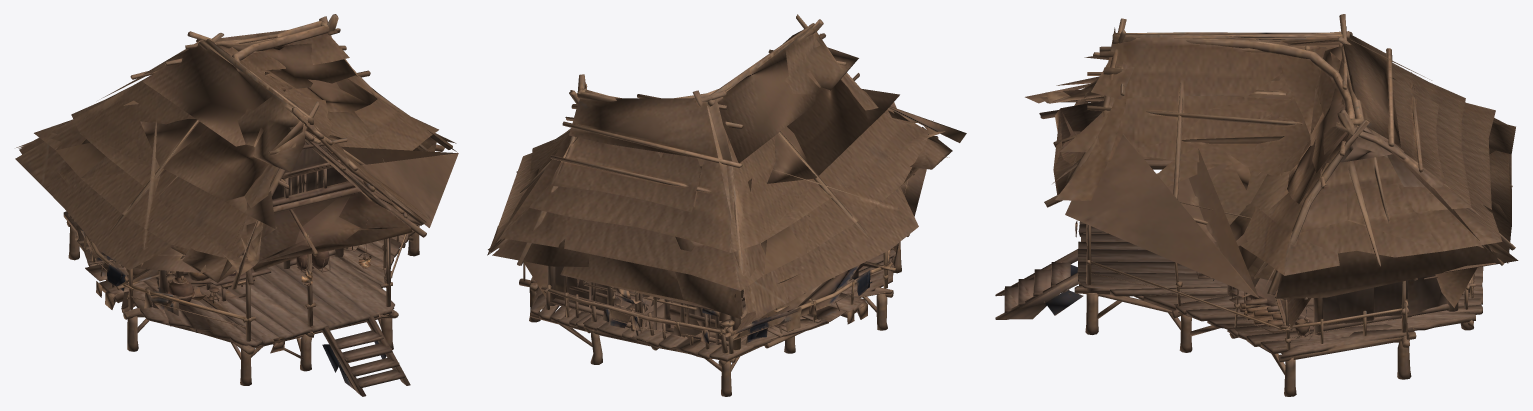
File: Meshy_AI_Bamboo_Hearth_Lodge_1010012648_texture.fbx
The picture shows the model from 3 angles, left to right: view 1: azimuth 30°, elevation 25°; view 2: azimuth 150°, elevation 25°; view 3: azimuth 270°, elevation 25°; orthographic projection. The views are drawn at different scales.
Visible parts, largest first — view 1: Mesh_0; view 2: Mesh_0; view 3: Mesh_0.
Part boxes in pixels (x1=…): Mesh_0: x1=15, y1=14, x2=458, y2=396; Mesh_0: x1=487, y1=14, x2=966, y2=396; Mesh_0: x1=995, y1=14, x2=1518, y2=396.
Bounding box in the file's own units: 83.59 × 55.32 × 95.07.
1 material, 1 textured.
